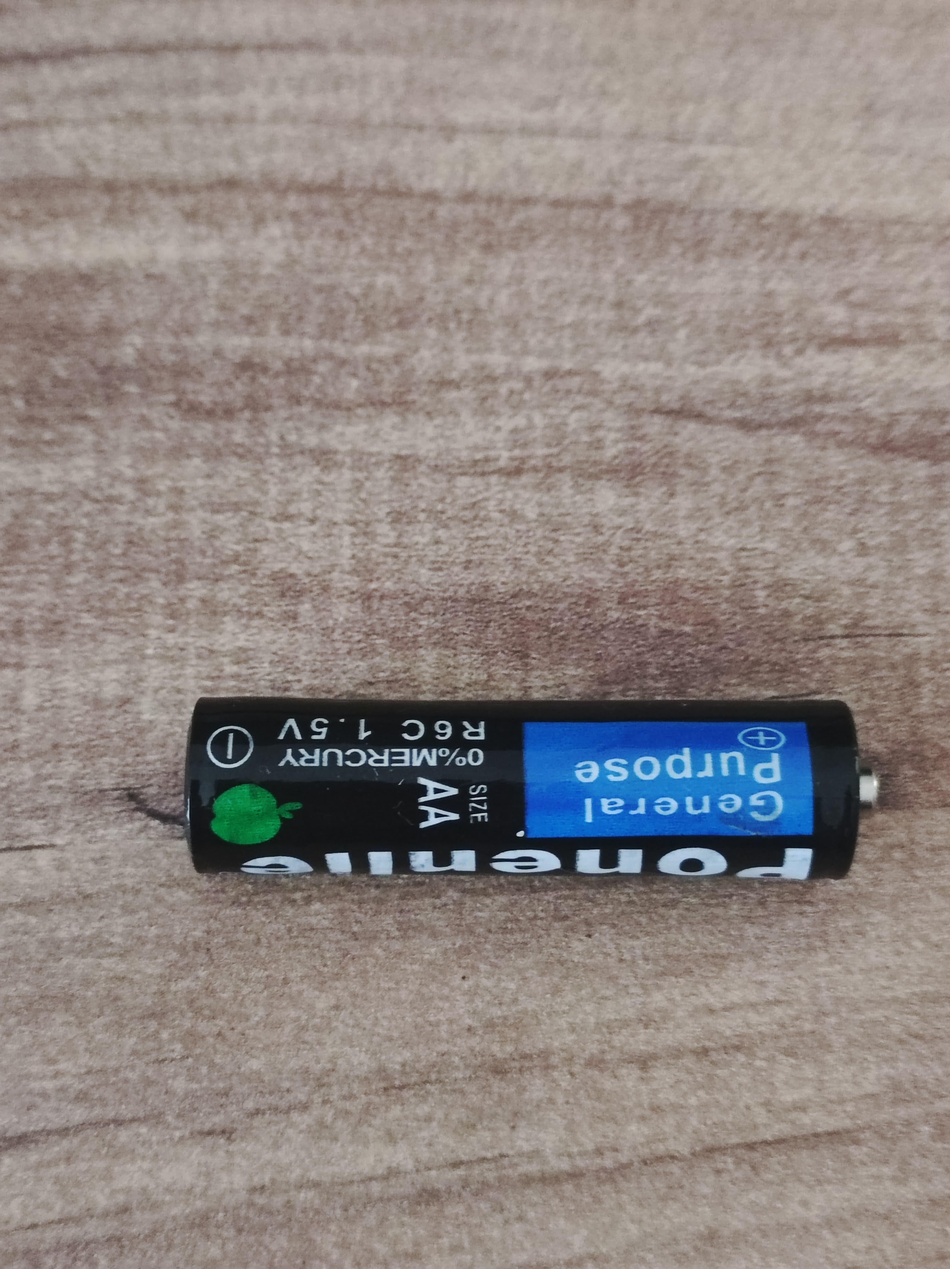AA: (183, 694, 879, 882)
